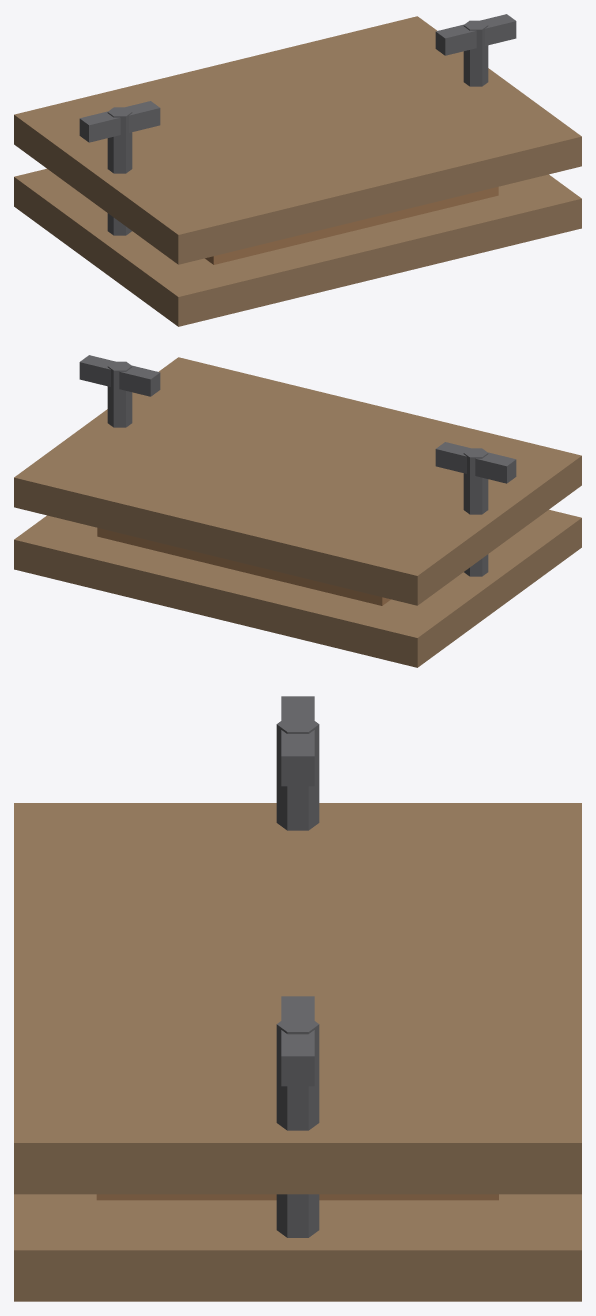
The model's file is prop-press-board-pair.fbx.
The picture shows the model from 3 angles, top to bottom: view 1: azimuth 30°, elevation 25°; view 2: azimuth 150°, elevation 25°; view 3: azimuth 270°, elevation 25°; orthographic projection. The views are drawn at different scales.
Visible parts, largest first — view 1: prop-press-board-pair; view 2: prop-press-board-pair; view 3: prop-press-board-pair.
Boxes of the visible parts, <box> form: prop-press-board-pair: <box>14,14,581,326</box>; prop-press-board-pair: <box>14,355,581,667</box>; prop-press-board-pair: <box>14,696,581,1301</box>.
Size of the model in its own units: 36 by 12 by 24.
